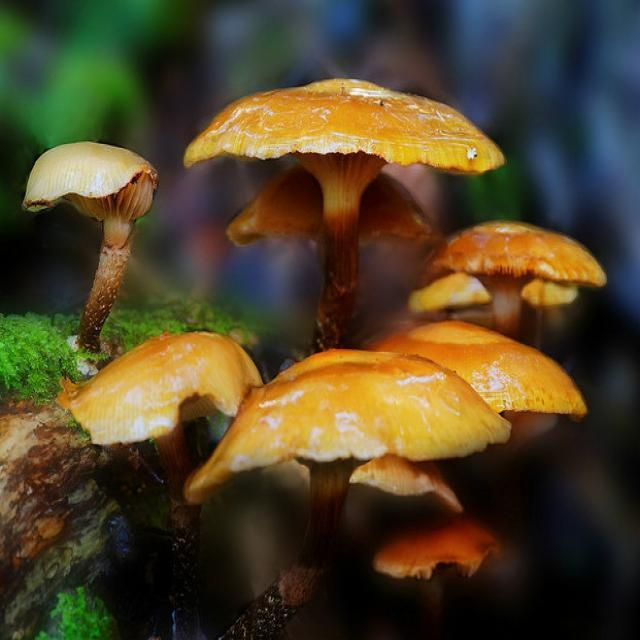Armillaria mellea: (27, 78, 605, 585)
